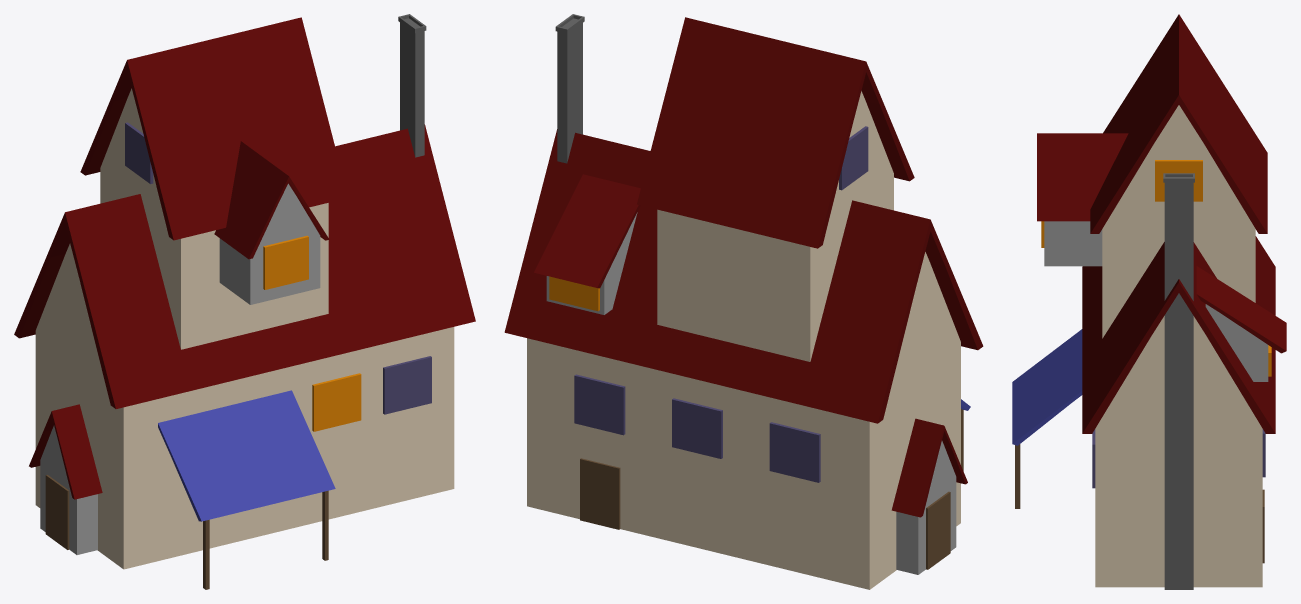
Rendered from HouseShop.fbx.
The picture shows the model from 3 angles, left to right: view 1: azimuth 30°, elevation 25°; view 2: azimuth 150°, elevation 25°; view 3: azimuth 270°, elevation 25°; orthographic projection. The views are drawn at different scales.
Parts seen in each view (by area): view 1: Cube.120, Cube.119, Cube.122, Cube.128, Cube.121, Cube.123, Cube.124, Cube.135, Cube.143, Cube.136, Cube.132, Cube.131 (+3 smaller); view 2: Cube.119, Cube.120, Cube.122, Cube.121, Cube.141, Cube.135, Cube.143, Cube.136, Cube.126, Cube.125, Cube.127, Cube.133 (+4 smaller); view 3: Cube.119, Cube.122, Cube.121, Cube.120, Cube.143, Cube.124, Cube.128, Cube.141, Cube.123, Cube.140, Cube.138, Cube.130.
Boxes of the visible parts, bbox=[...] form: Cube.120: bbox=[14, 124, 475, 408]; Cube.119: bbox=[35, 243, 454, 569]; Cube.122: bbox=[80, 17, 348, 240]; Cube.128: bbox=[158, 390, 335, 521]; Cube.121: bbox=[100, 88, 328, 349]; Cube.123: bbox=[219, 183, 320, 304]; Cube.124: bbox=[214, 141, 329, 259]; Cube.135: bbox=[29, 404, 102, 499]; Cube.143: bbox=[398, 14, 426, 157]; Cube.136: bbox=[40, 425, 97, 554]; Cube.132: bbox=[312, 373, 361, 431]; Cube.131: bbox=[383, 356, 431, 414]; Cube.119: bbox=[527, 252, 960, 589]; Cube.120: bbox=[504, 129, 983, 423]; Cube.122: bbox=[637, 17, 914, 248]; Cube.121: bbox=[657, 91, 893, 361]; Cube.141: bbox=[534, 174, 640, 288]; Cube.135: bbox=[891, 418, 967, 517]; Cube.143: bbox=[555, 14, 584, 163]; Cube.136: bbox=[896, 441, 956, 574]; Cube.126: bbox=[769, 422, 820, 482]; Cube.125: bbox=[574, 374, 625, 435]; Cube.127: bbox=[580, 458, 620, 529]; Cube.133: bbox=[672, 398, 722, 458]; Cube.119: bbox=[1095, 316, 1262, 587]; Cube.122: bbox=[1090, 14, 1267, 233]; Cube.121: bbox=[1102, 105, 1255, 338]; Cube.120: bbox=[1082, 236, 1275, 433]; Cube.143: bbox=[1163, 173, 1194, 589]; Cube.124: bbox=[1037, 133, 1128, 221]; Cube.128: bbox=[1012, 329, 1082, 445]; Cube.141: bbox=[1196, 266, 1286, 353]; Cube.123: bbox=[1044, 221, 1102, 266]; Cube.140: bbox=[1205, 304, 1268, 381]; Cube.138: bbox=[1155, 160, 1202, 201]; Cube.130: bbox=[1015, 444, 1020, 508].
Size of the model in its own units: 1585 by 1891 by 1064.
